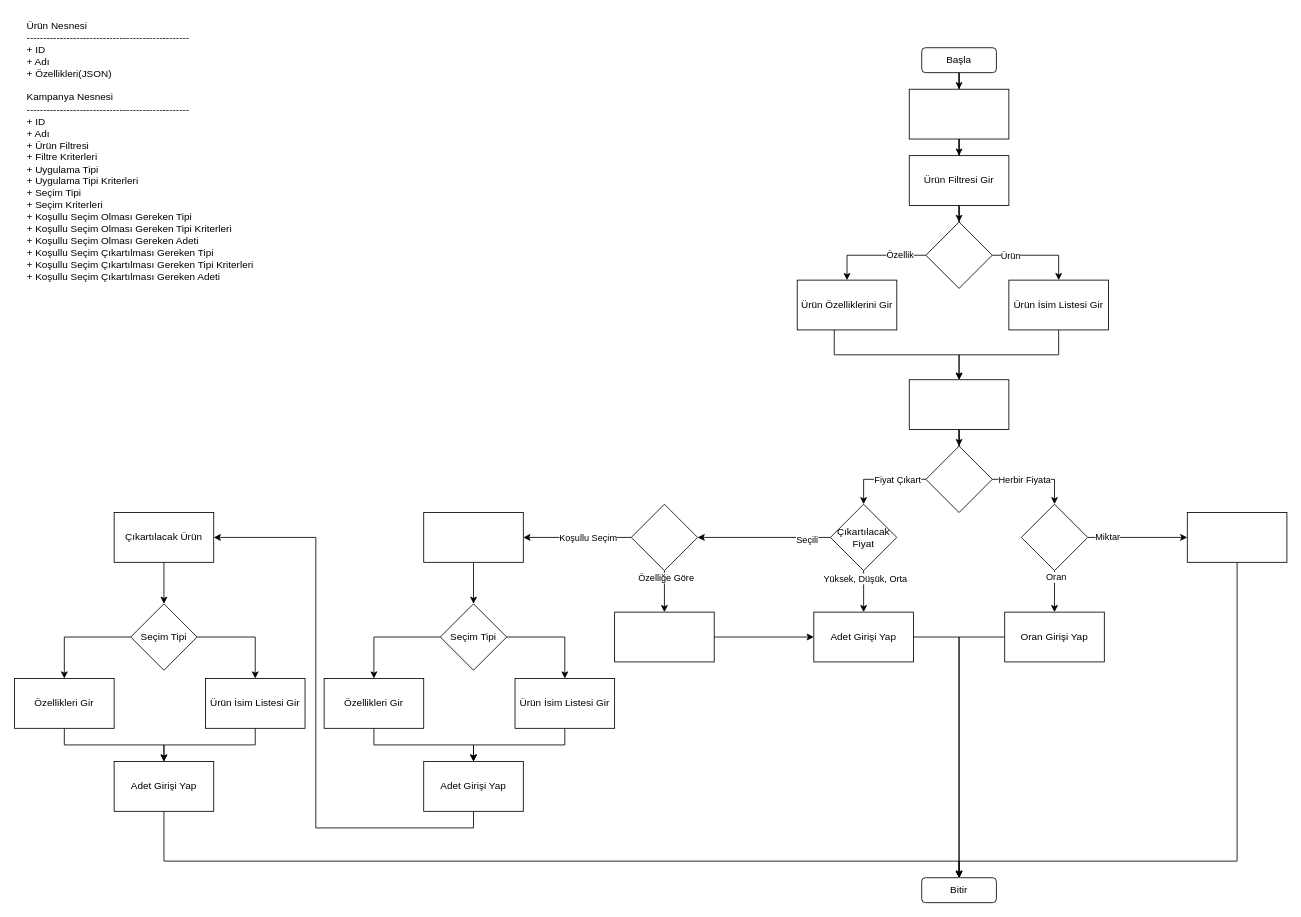
Image size: 1301x917. Some labels were removed from this diagram. Each missing label, with the centre of its shape:
"Filtre" goes at point (958, 254).
"Kampanya Adı Gir" goes at point (958, 113).
"Kriter" goes at point (1054, 537).
"Olması Gereken Ürün" goes at point (473, 537).
"Seçim Kriteri" goes at point (664, 537).
"Tip" goes at point (958, 479).
"Tutar Girişi Yap" goes at point (1236, 537).
"Uygulama Tipi Gir" goes at point (958, 404).
"Özelliklerin Girişini Yap" goes at point (664, 636).
